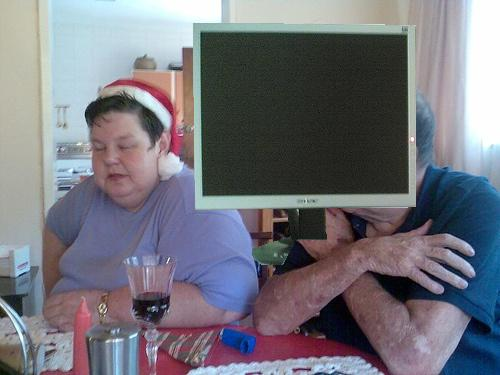tampered: (194, 24, 416, 265)
